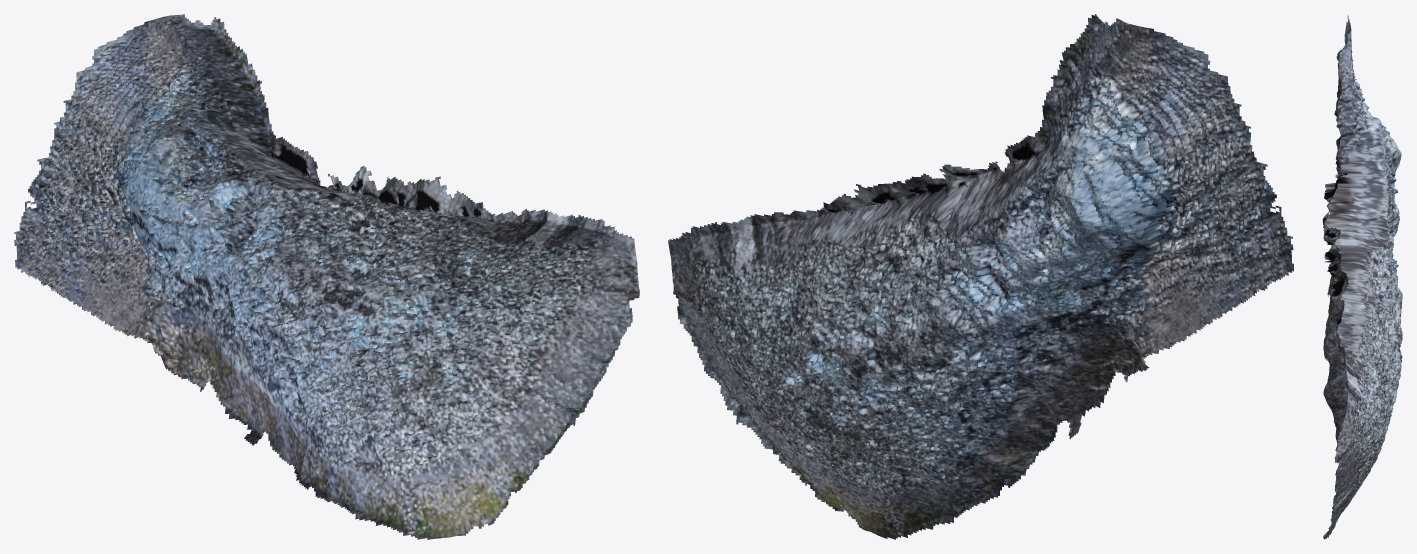
The model's file is suicide_basin.glb.
The picture shows the model from 3 angles, left to right: view 1: azimuth 30°, elevation 25°; view 2: azimuth 150°, elevation 25°; view 3: azimuth 270°, elevation 25°; orthographic projection. The views are drawn at different scales.
Visible parts, largest first — view 1: sb_dem_scaled; view 2: sb_dem_scaled; view 3: sb_dem_scaled.
Boxes of the visible parts, bbox=[...] form: sb_dem_scaled: bbox=[14, 14, 639, 539]; sb_dem_scaled: bbox=[668, 14, 1293, 539]; sb_dem_scaled: bbox=[1322, 15, 1402, 539].
Size of the model in its own units: 1665 by 1485 by 265.
Materials: 1 (1 with a texture image).
